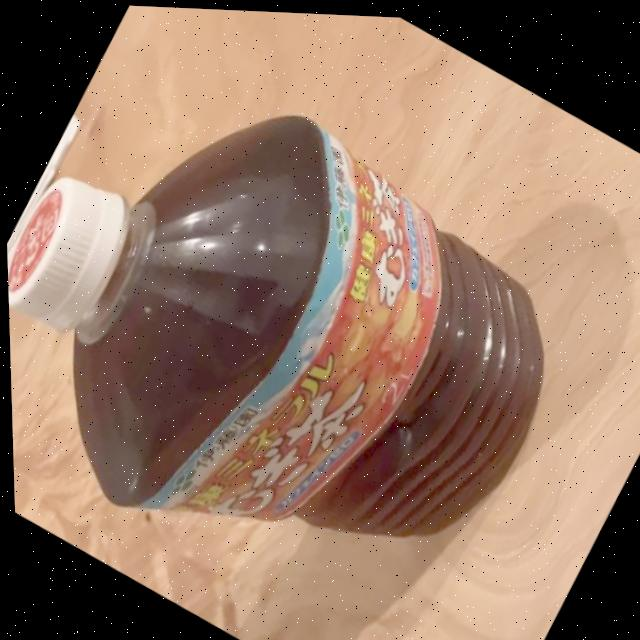sise: (0, 0, 638, 640)
